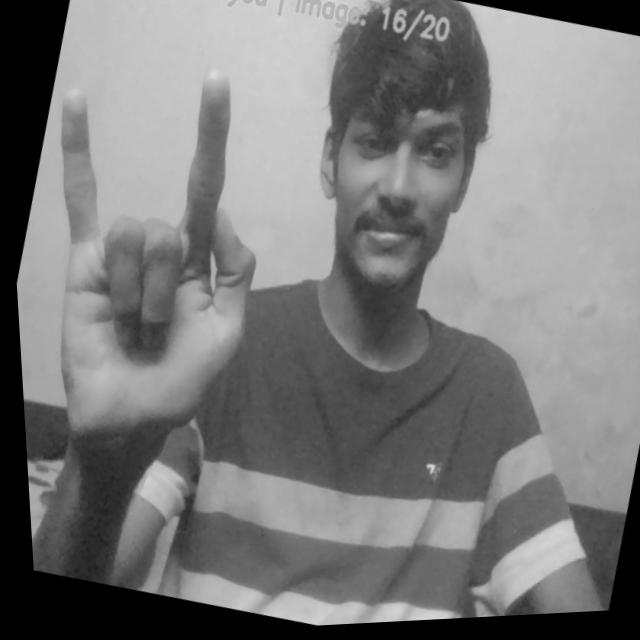I love you: (2, 30, 306, 451)
